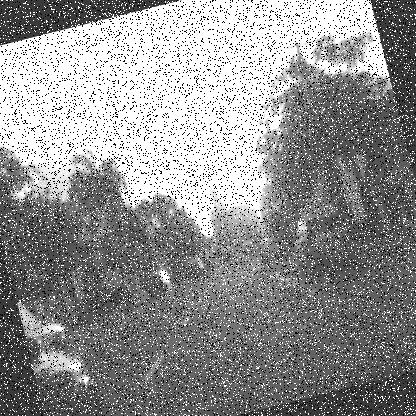Car: (26, 324, 114, 415), (291, 211, 364, 283), (17, 292, 73, 363), (100, 282, 132, 312), (258, 234, 288, 265), (142, 268, 172, 298), (186, 256, 211, 284), (198, 252, 214, 278), (240, 239, 256, 258), (221, 245, 236, 262)
